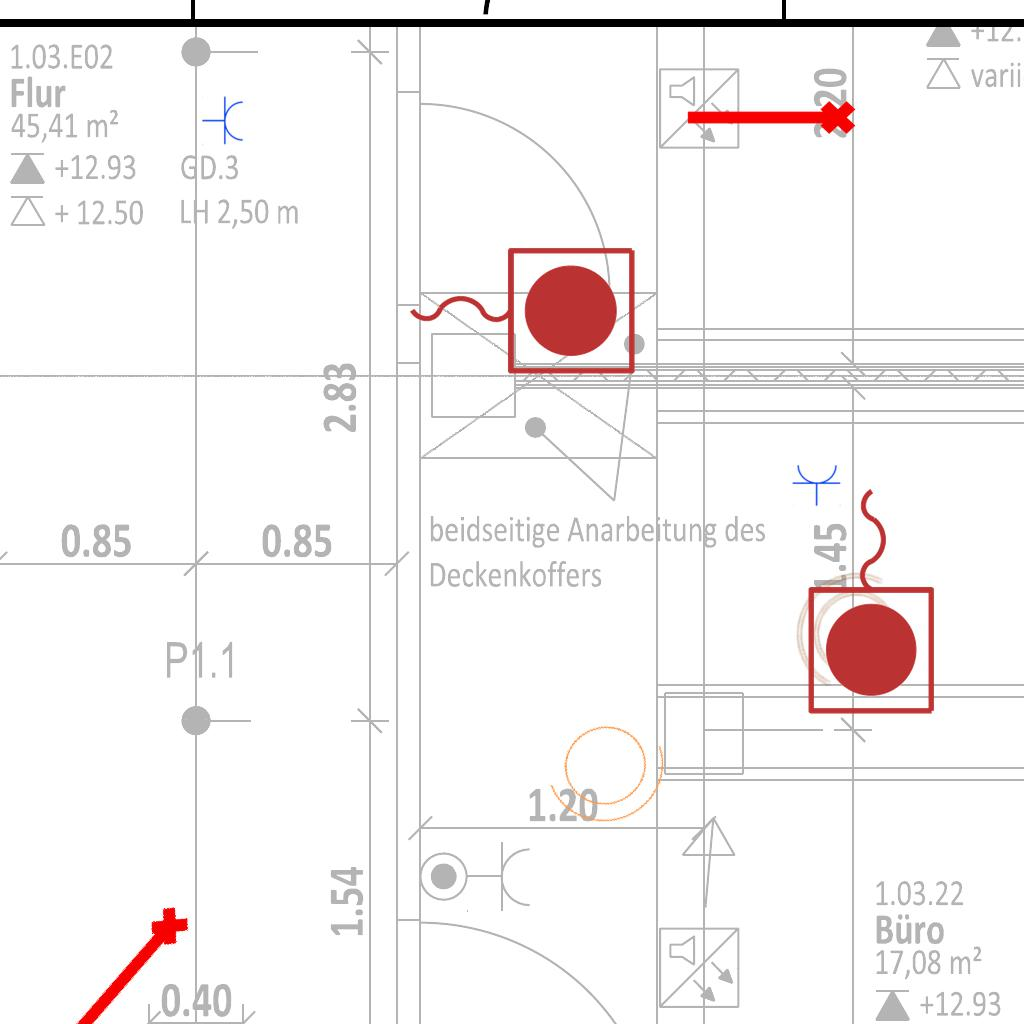ASR_Ansaugoeffnung: (51, 897, 203, 1024), (682, 97, 858, 143)
Scheinwerfer_fuer_Alarmbeleuchtung: (769, 548, 929, 718), (528, 693, 692, 845)
Schukosteckdose_einfach: (792, 463, 842, 506), (202, 96, 245, 146)
Zugtaster: (399, 237, 643, 381), (801, 478, 945, 722)
